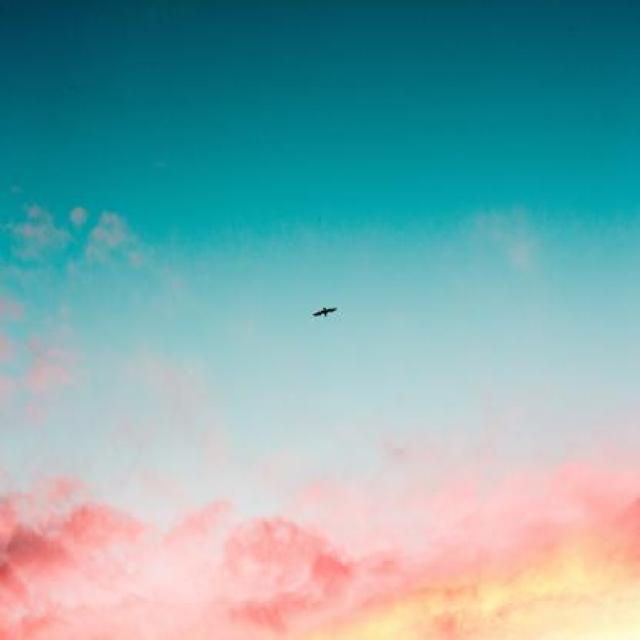bird: (312, 306, 337, 319)
